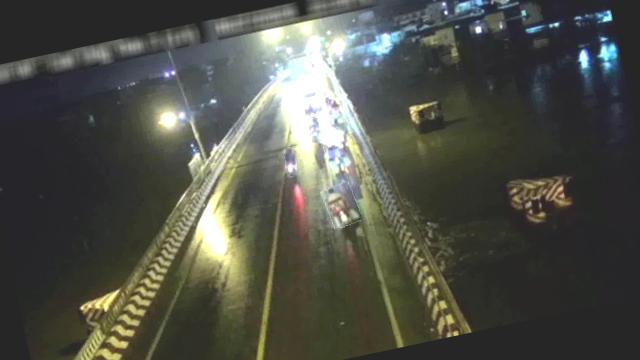Bike: (322, 180, 362, 229), (324, 142, 350, 174), (325, 97, 348, 129), (282, 146, 302, 178), (308, 115, 328, 144)
